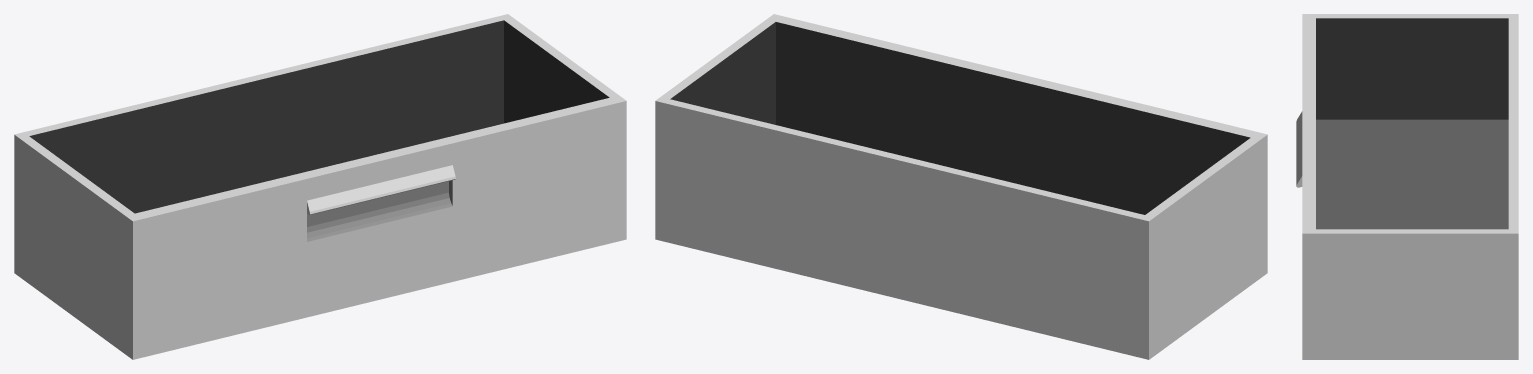
Rendered from Desk_Drawer_1.fbx.
The picture shows the model from 3 angles, left to right: view 1: azimuth 30°, elevation 25°; view 2: azimuth 150°, elevation 25°; view 3: azimuth 270°, elevation 25°; orthographic projection. The views are drawn at different scales.
Visible parts, largest first — view 1: Desk_Drawer_1; view 2: Desk_Drawer_1; view 3: Desk_Drawer_1.
Part boxes in pixels (x1,y1,x2,y2): Desk_Drawer_1: (14,14,626,359); Desk_Drawer_1: (655,14,1267,359); Desk_Drawer_1: (1296,14,1518,359).
Bounding box in the file's own units: 88.81 × 23.81 × 37.96.
